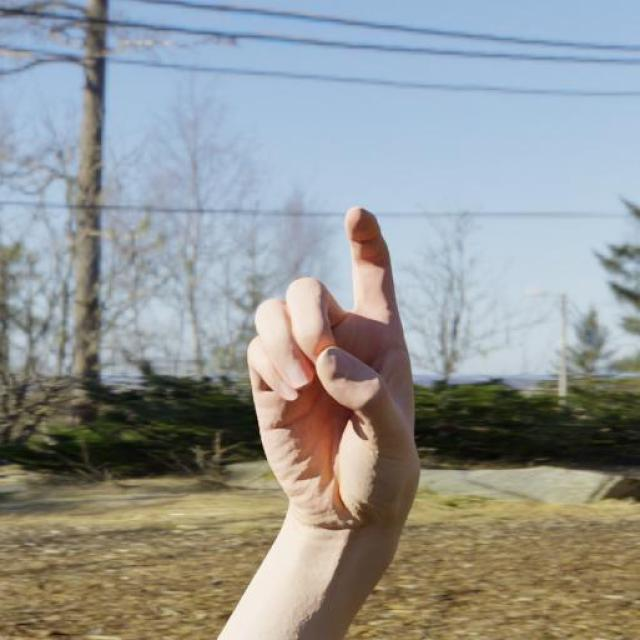X: (241, 204, 425, 541)
